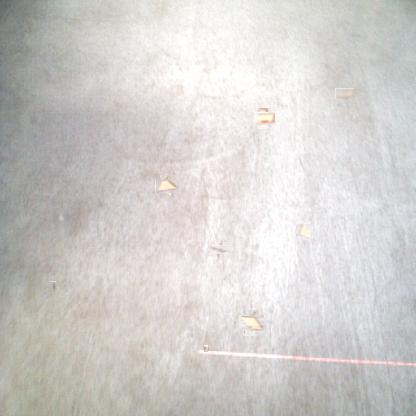dirty: (241, 313, 261, 333), (158, 177, 176, 196), (256, 110, 273, 127), (297, 224, 312, 240), (335, 88, 354, 99)
mark: (212, 242, 227, 258), (50, 281, 56, 292), (204, 345, 209, 352)
